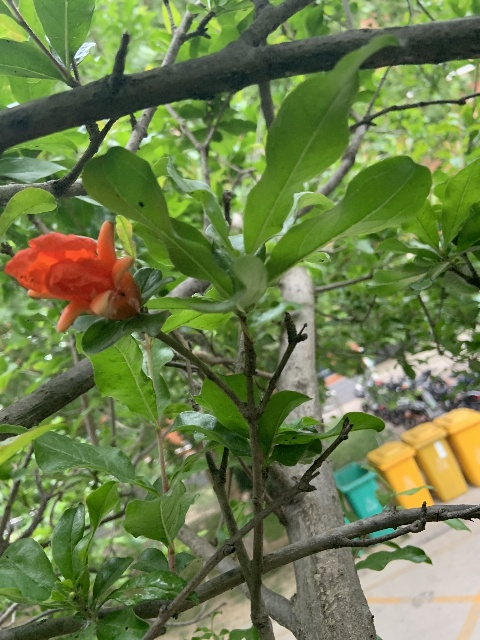flower: (4, 218, 140, 332)
